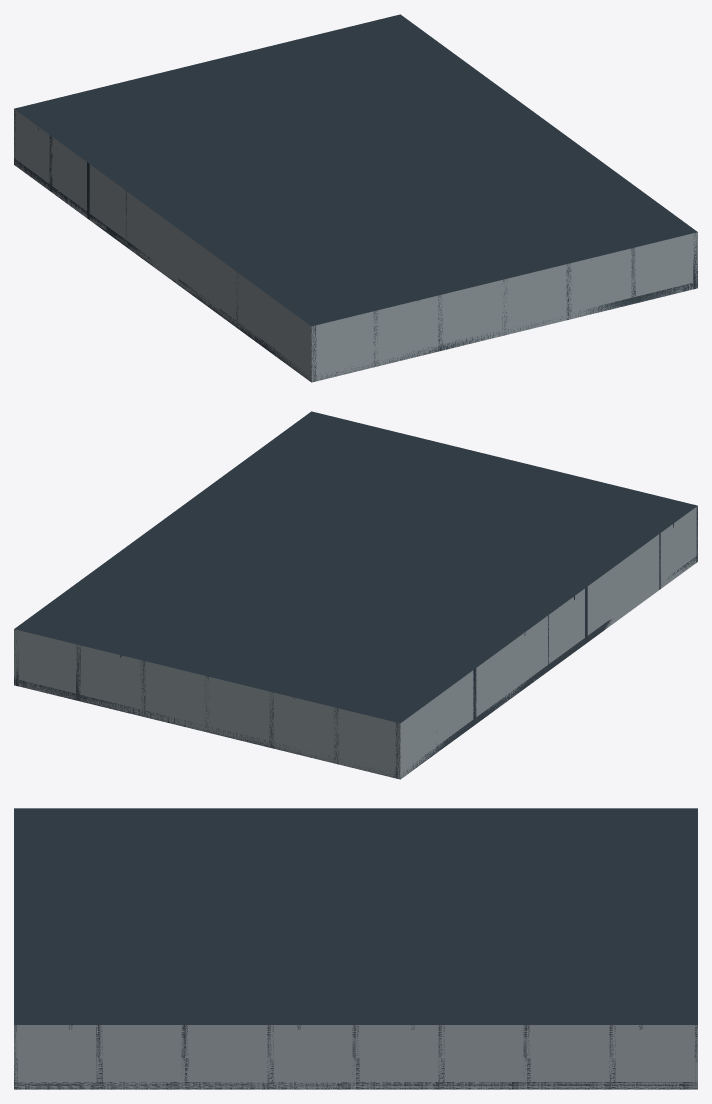
Rendered from range.glb.
The picture shows the model from 3 angles, top to bottom: view 1: azimuth 30°, elevation 25°; view 2: azimuth 150°, elevation 25°; view 3: azimuth 270°, elevation 25°; orthographic projection. The views are drawn at different scales.
Parts seen in each view (by area): view 1: range; view 2: range; view 3: range.
Part boxes in pixels (x1,y1,x2,y2): range: [14, 14, 697, 382]; range: [14, 411, 697, 779]; range: [14, 808, 697, 1089].
Bounding box in the file's own units: 72 × 10 × 96.
